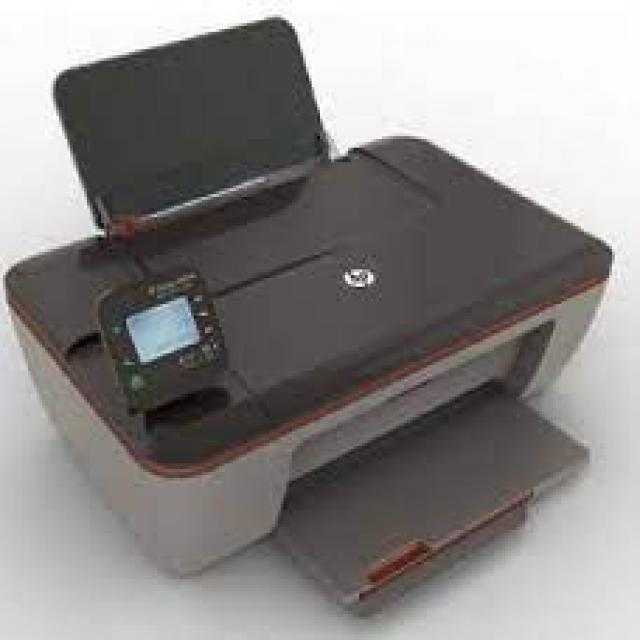printer: (0, 7, 637, 626)
